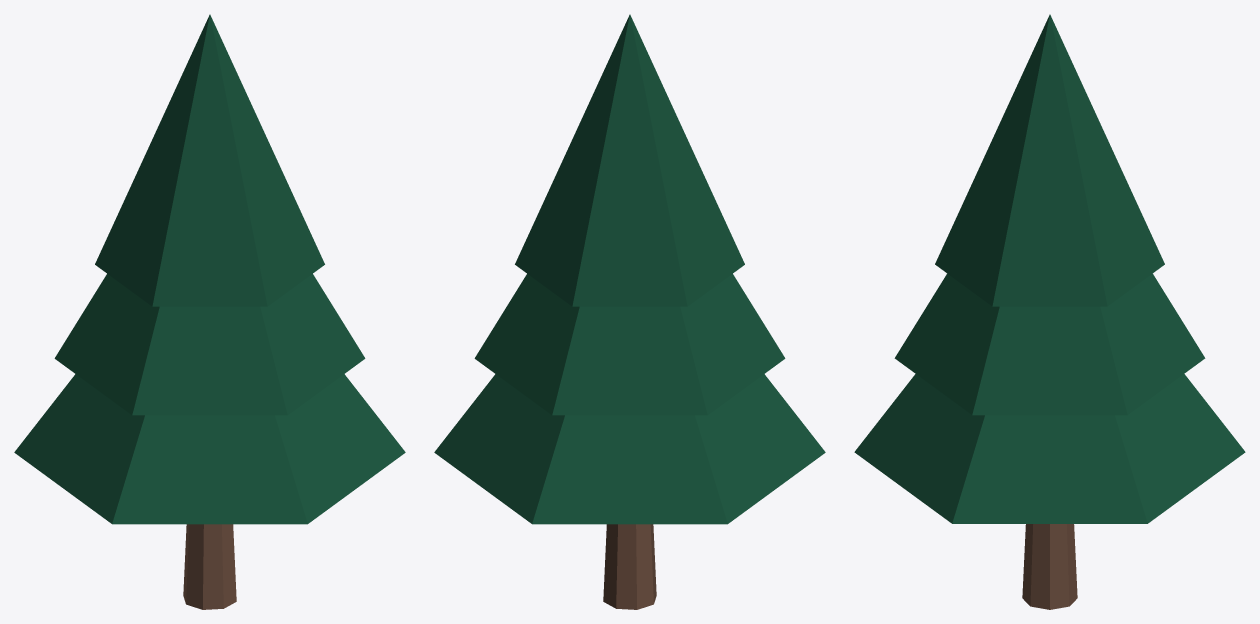
The model's file is tree-0.glb.
3 renders of one model, left to right at view 1: azimuth 30°, elevation 25°; view 2: azimuth 150°, elevation 25°; view 3: azimuth 270°, elevation 25°, orthographic.
Visible parts, largest first — view 1: TreeMesh; view 2: TreeMesh; view 3: TreeMesh.
Boxes of the visible parts, bbox=[...] form: TreeMesh: bbox=[14, 14, 405, 609]; TreeMesh: bbox=[434, 14, 825, 609]; TreeMesh: bbox=[854, 14, 1245, 609].
Bounding box in the file's own units: 2.94 × 5.6 × 3.4.
Materials: 1 (1 with a texture image).
